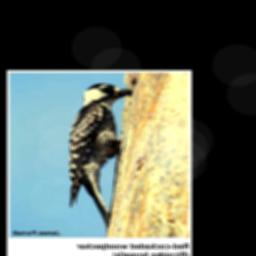Woodpecker: (64, 82, 136, 229)
